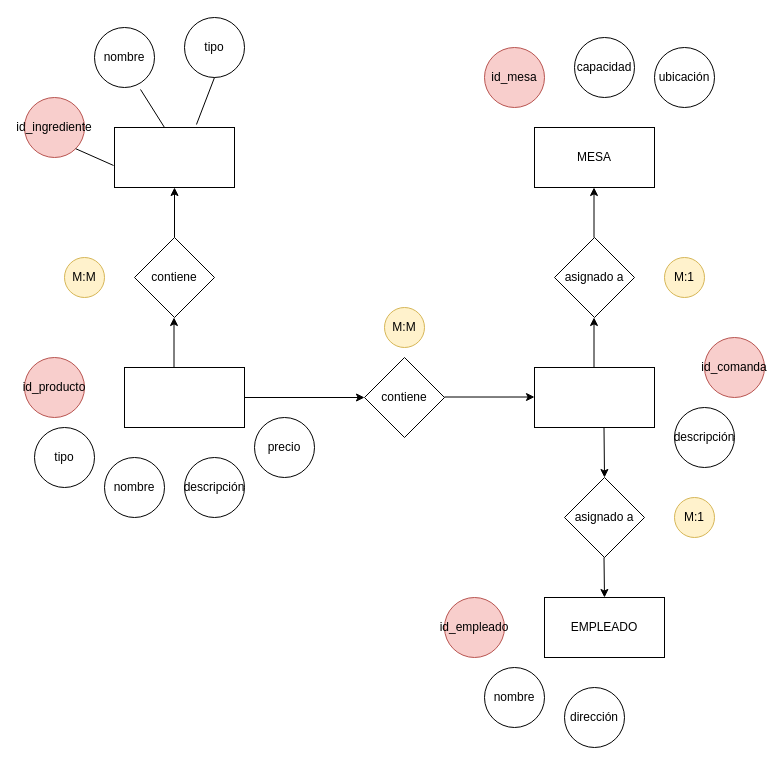
Some shapes in this 784 by 765 pixel diagram are drawn without their labels. Each missing label, with the centre of its shape:
"COMANDA" goes at [594,397].
"INGREDIENTES" goes at [174,157].
"PRODUCTO" goes at [184,397].
